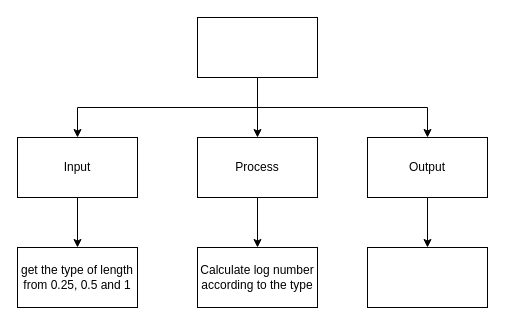
This 505x325 diagram has some shape labels left out. Each missing label, with the centre of its shape:
log number: the point at 257,47
Show log number: the point at 427,277
